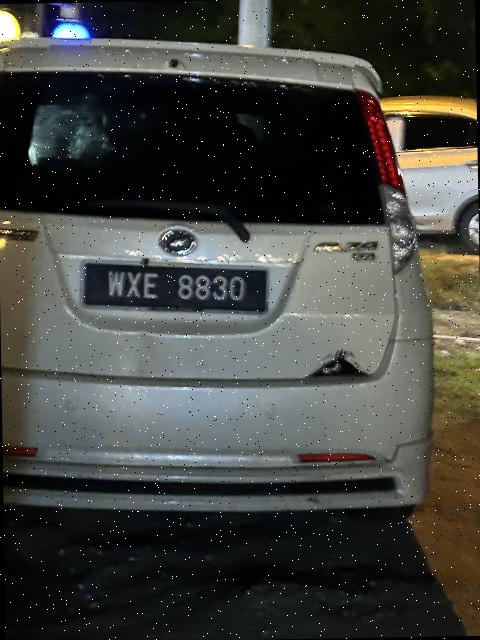License_Plate: (79, 250, 273, 320)
car: (1, 26, 440, 524)
